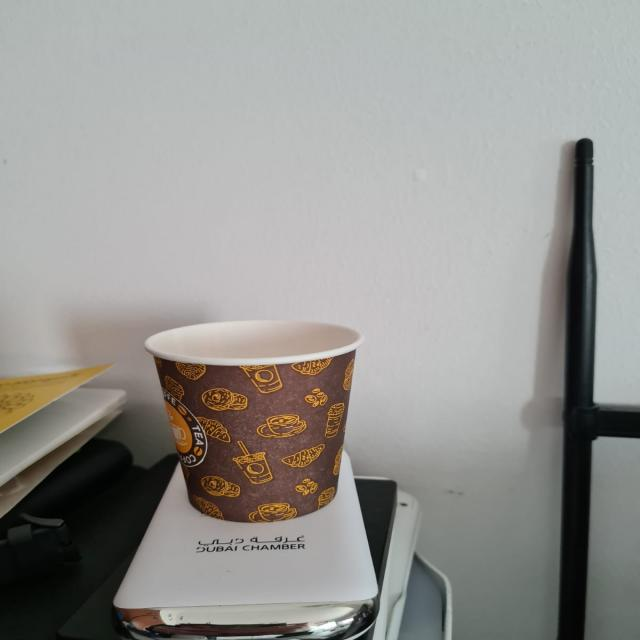cups: (144, 318, 368, 522)
